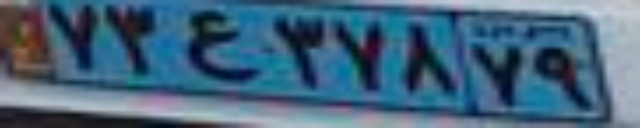3: (272, 14, 331, 91), (106, 3, 158, 75)
7: (335, 16, 388, 93), (467, 44, 526, 107), (47, 3, 99, 71)
8: (395, 24, 457, 93)
9: (532, 44, 595, 109)
ain: (184, 11, 257, 82)
